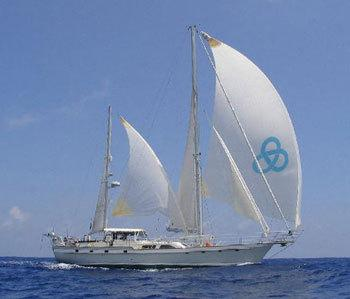Ship: (44, 23, 305, 269)
